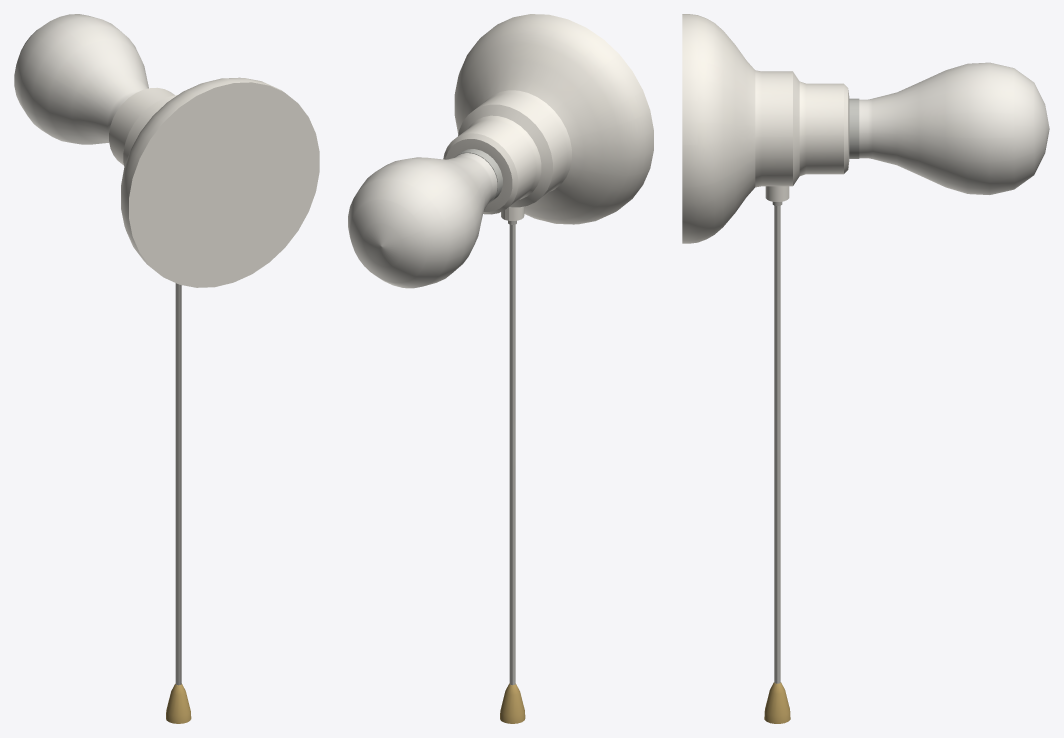
The model's file is wall_off.obj.
The picture shows the model from 3 angles, left to right: view 1: azimuth 30°, elevation 25°; view 2: azimuth 150°, elevation 25°; view 3: azimuth 270°, elevation 25°; orthographic projection. The views are drawn at different scales.
Visible parts, largest first — view 1: wall_porcelain, wall_bulb_off, wall_chain, wall_pull; view 2: wall_porcelain, wall_bulb_off, wall_chain, wall_pull; view 3: wall_porcelain, wall_bulb_off, wall_chain, wall_pull, wall_shell.
Part boxes in pixels (box(x1,y1,x2,y2)): wall_porcelain: box(109, 77, 319, 287); wall_bulb_off: box(14, 14, 148, 144); wall_chain: box(175, 283, 181, 685); wall_pull: box(166, 683, 191, 723); wall_porcelain: box(443, 14, 653, 224); wall_bulb_off: box(348, 153, 497, 288); wall_chain: box(509, 224, 515, 685); wall_pull: box(500, 683, 525, 723); wall_porcelain: box(682, 14, 849, 243); wall_bulb_off: box(859, 62, 1049, 194); wall_chain: box(774, 205, 780, 683); wall_pull: box(764, 682, 790, 723); wall_shell: box(849, 98, 859, 158).
Size of the model in its own units: 0.1035 by 0.3457 by 0.166.
